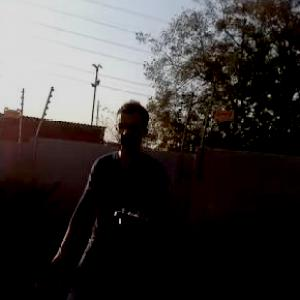follow: (42, 95, 175, 299)
